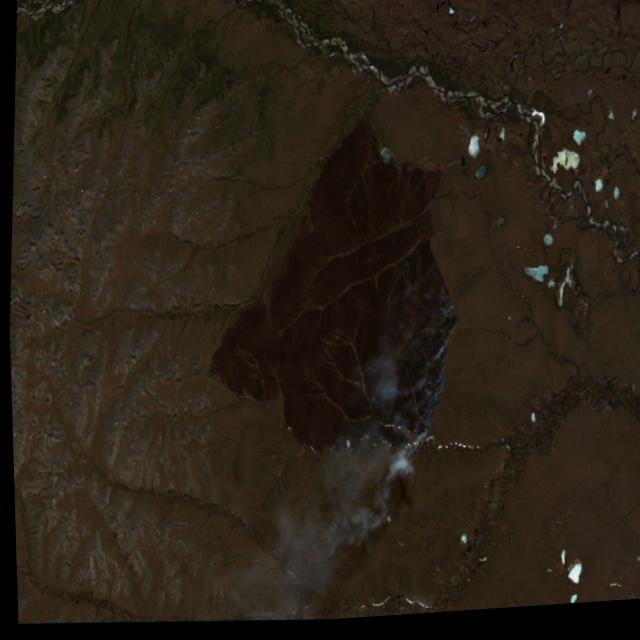fire: (386, 311, 461, 464)
